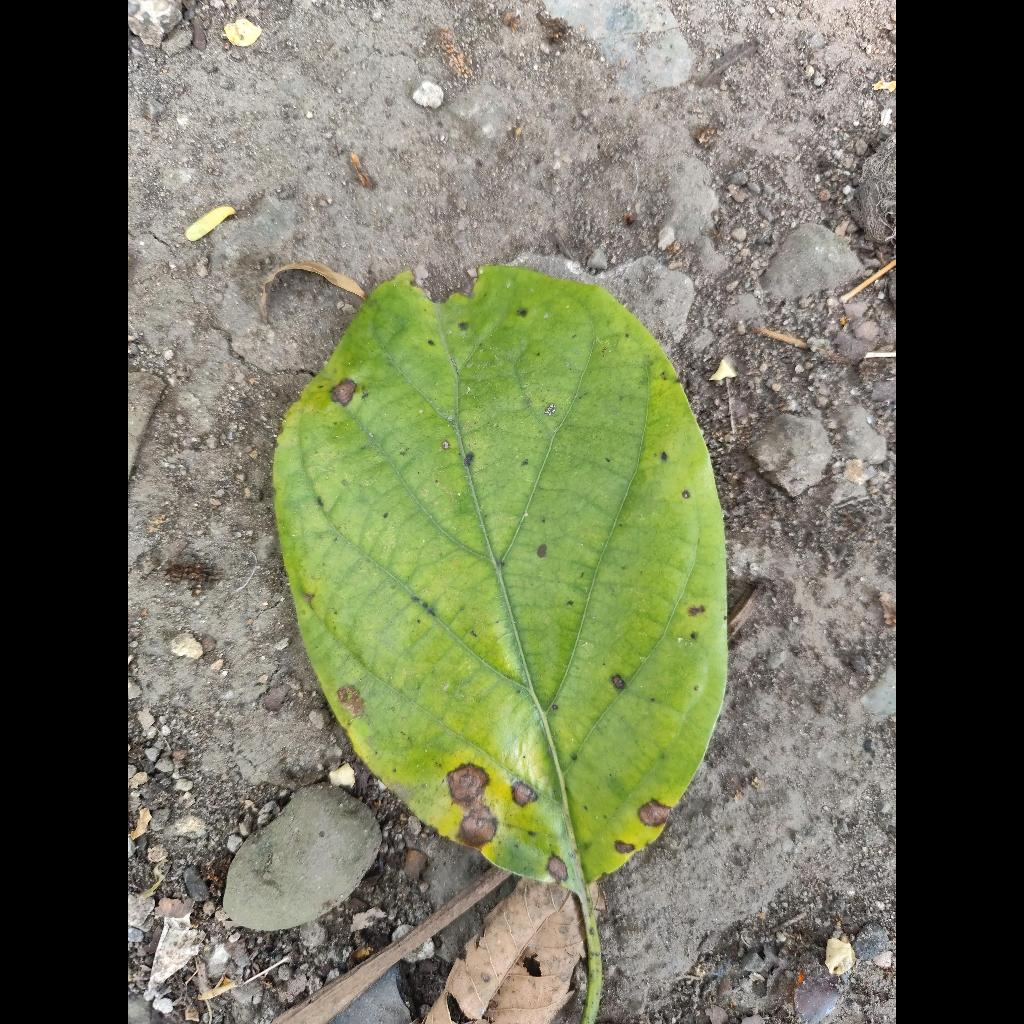nutrient_deficiency: (275, 267, 726, 898)
